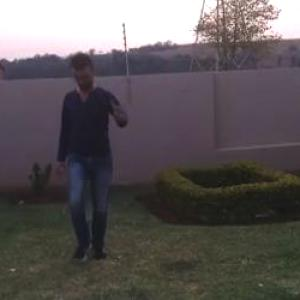takeoff-hand: (98, 96, 134, 130)
